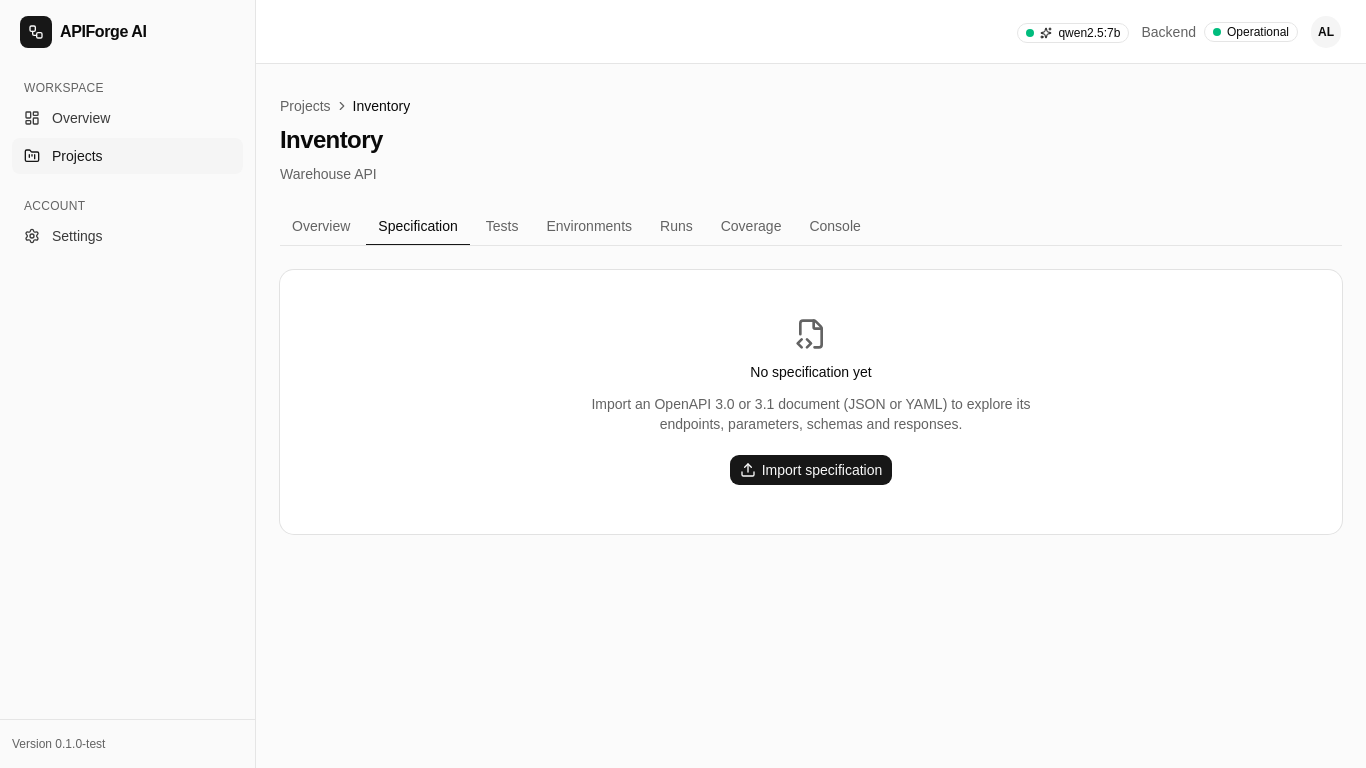
Test case: Specification import › checks a document without importing it
This screenshot has width=1366, height=768.
Click the button "Import specification".
click(811, 470)  # box [729,454,893,486]
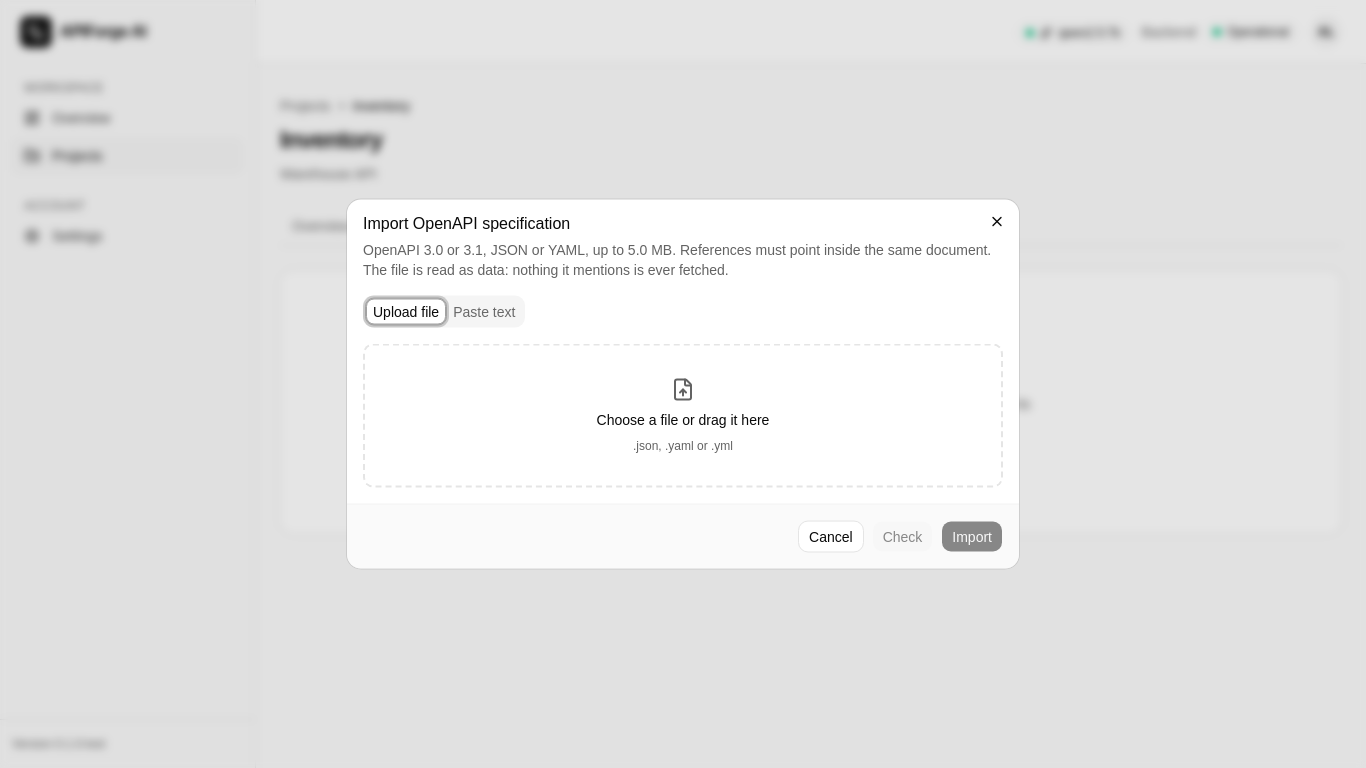
Click the tab "Paste text".
click(484, 312)  # box [446,298,522,324]
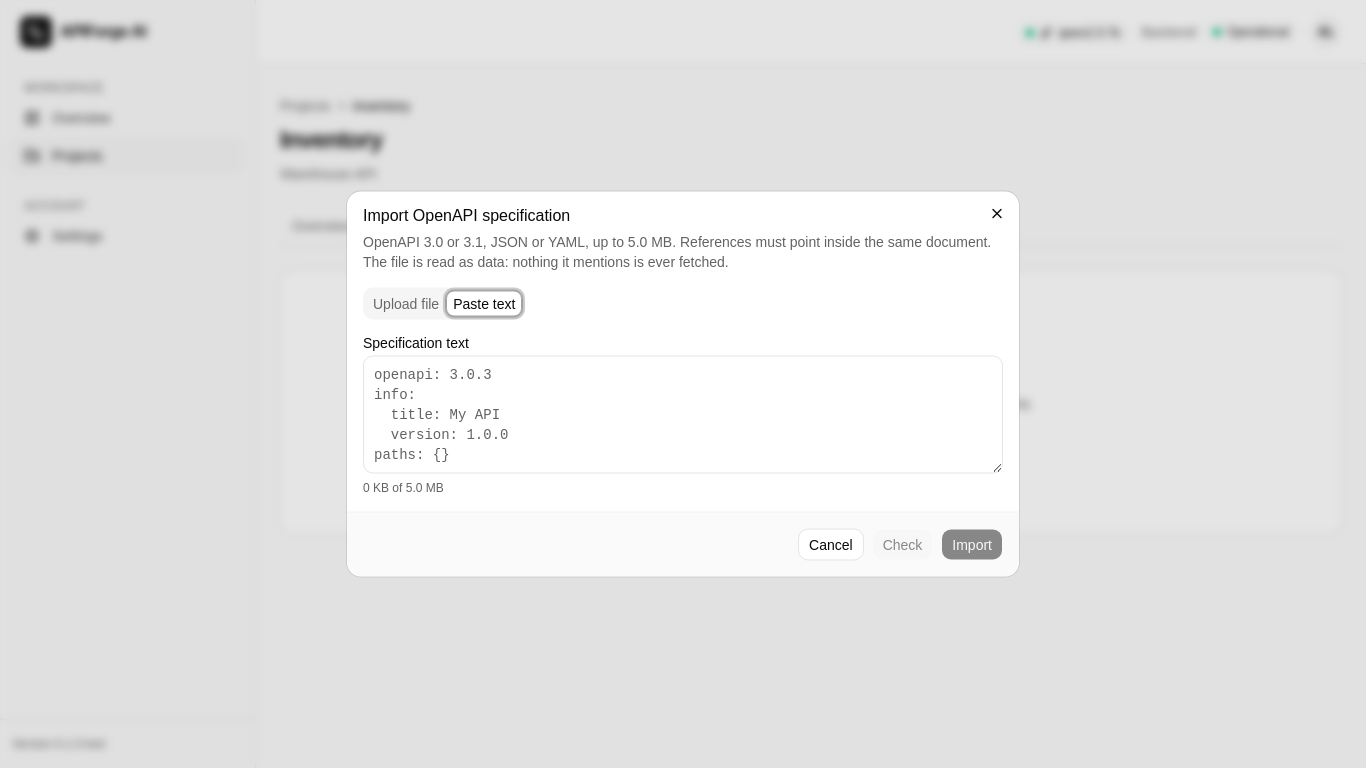
Type "openapi: 3.0.3" into the text box labelled "Specification text".
click(683, 414); type("openapi: 3.0.3")  # box [363,356,1003,474]
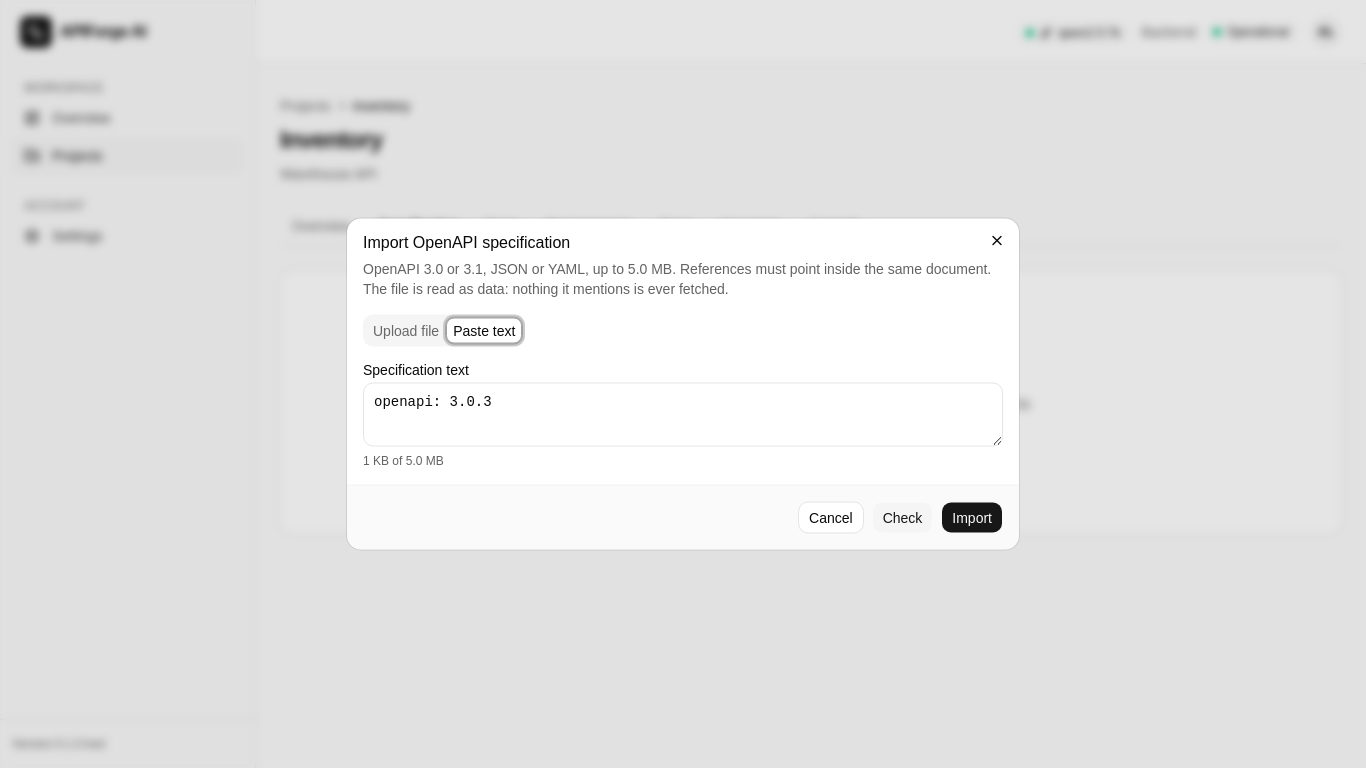
Click the button "Check".
click(902, 518)  # box [872,502,933,534]
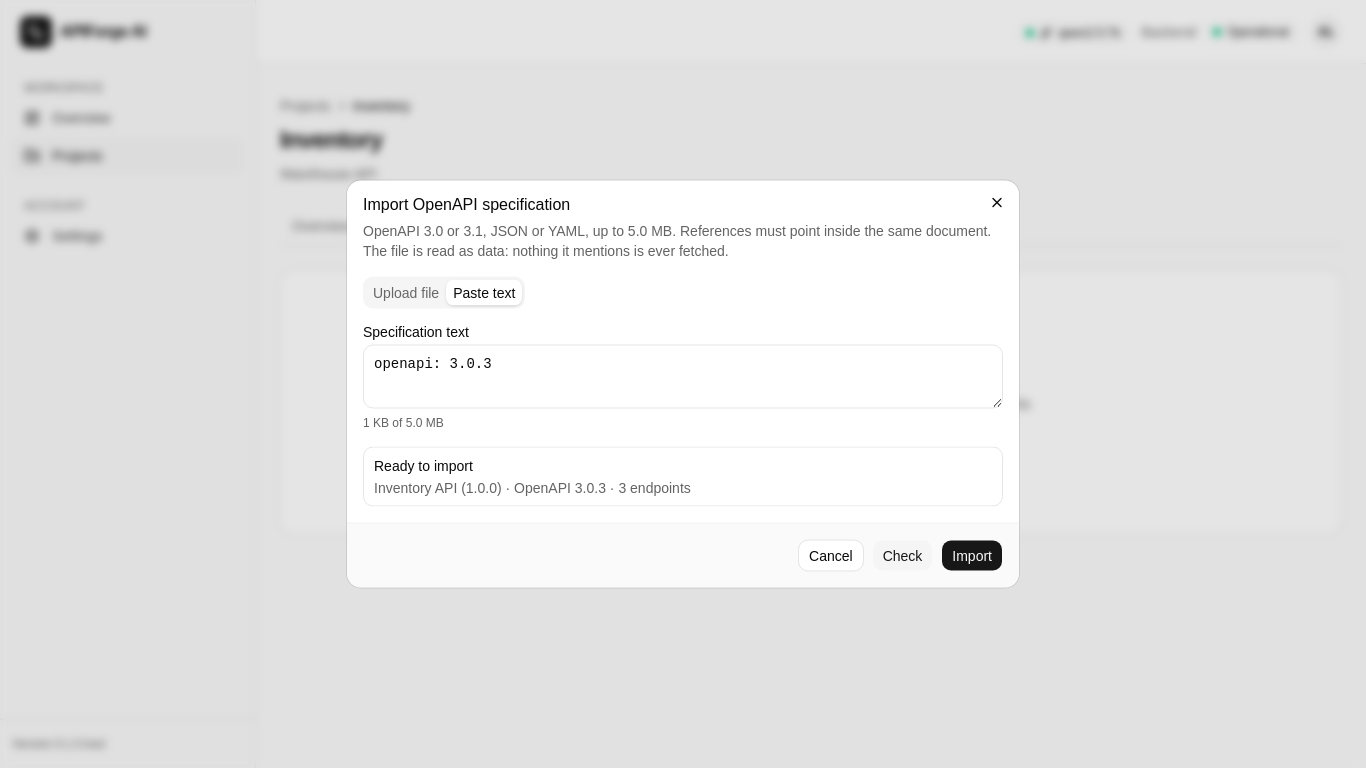
expect the text "Ready to import" is shown: met, box [374,458,473,474]
